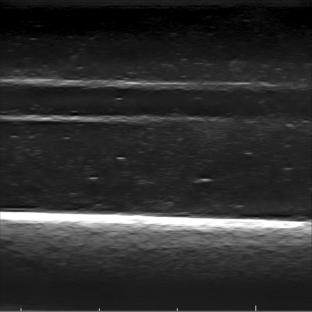vessel: (3, 79, 270, 125)
